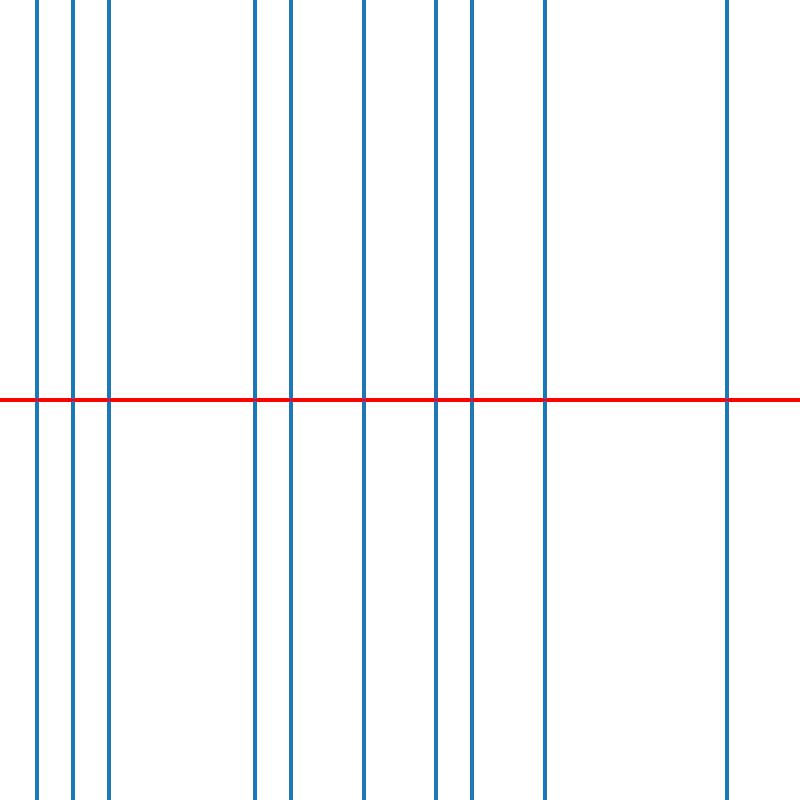root: (541, 396, 549, 404), (250, 396, 258, 404), (32, 396, 40, 404), (432, 396, 440, 404), (469, 396, 476, 404), (723, 396, 730, 404), (360, 396, 367, 404), (287, 396, 294, 404), (69, 396, 76, 404), (105, 396, 112, 404)
